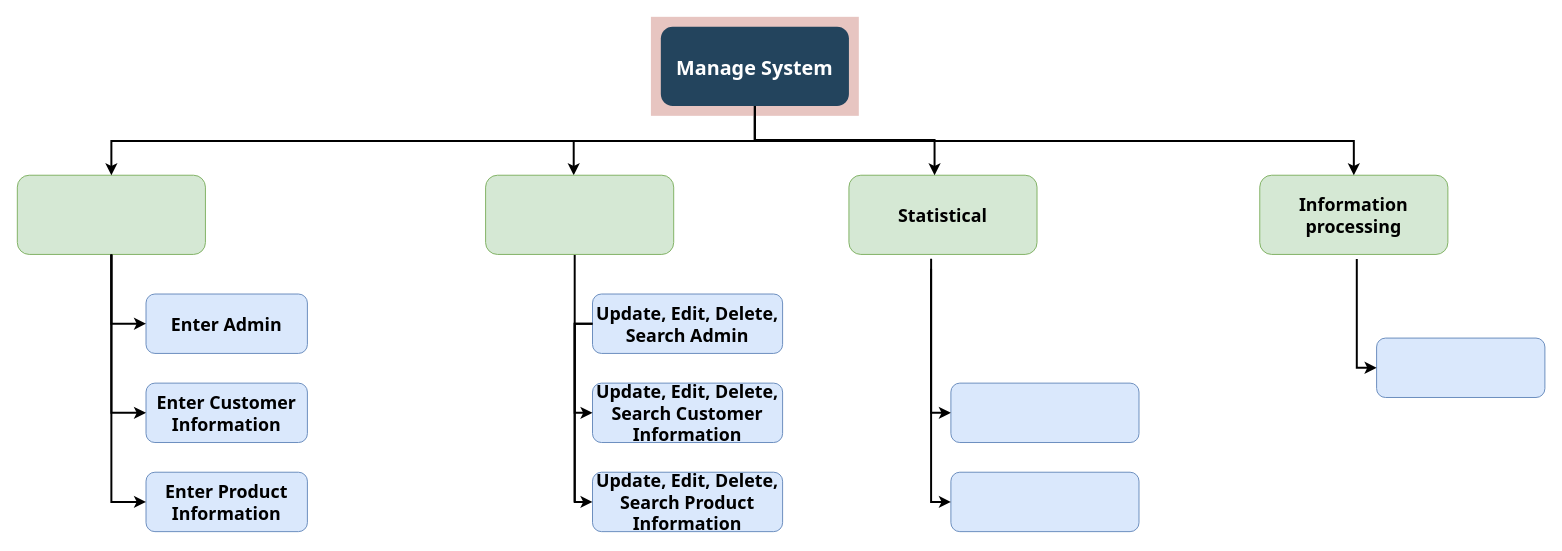
The diagram is 1562 pixels wide and 551 high, and some of its shapes have lost their labels. The shapes that lost their labels are listed below. From the top down, each one's box as (x1, y1, x2, y2) in pixels, then its label:
(16, 174, 205, 254): Enter Information
(485, 174, 674, 254): Update, Edit, Delete, Search Information
(1376, 337, 1545, 397): Order Processing
(950, 382, 1139, 443): Statistical Customer Information
(950, 471, 1139, 532): Statistical Product Information
